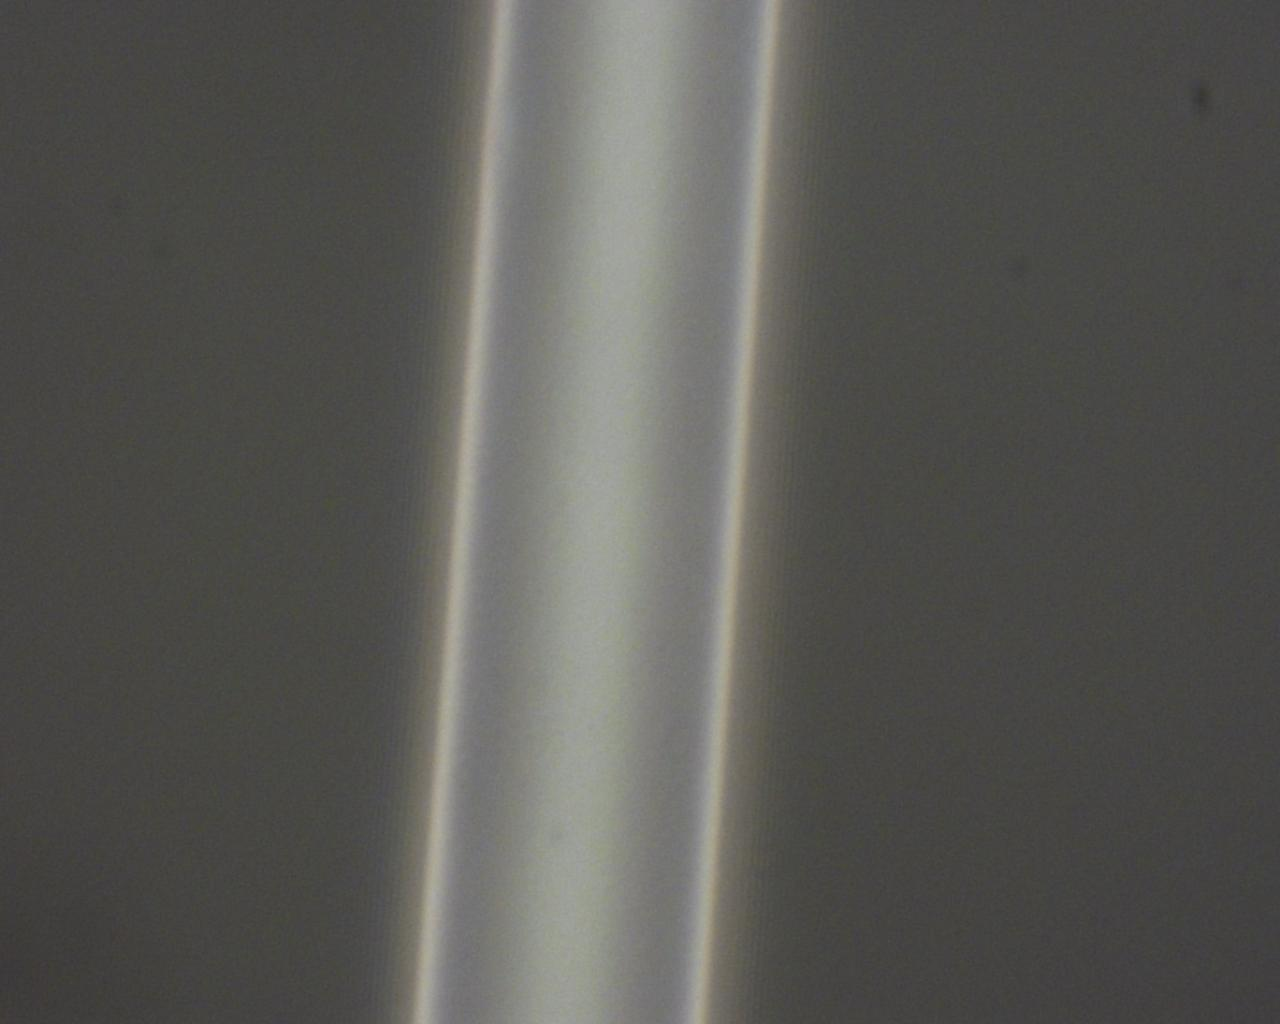fiber: (896, 0, 1120, 552), (385, 0, 550, 552), (1161, 552, 1240, 1024), (272, 552, 345, 1024)
